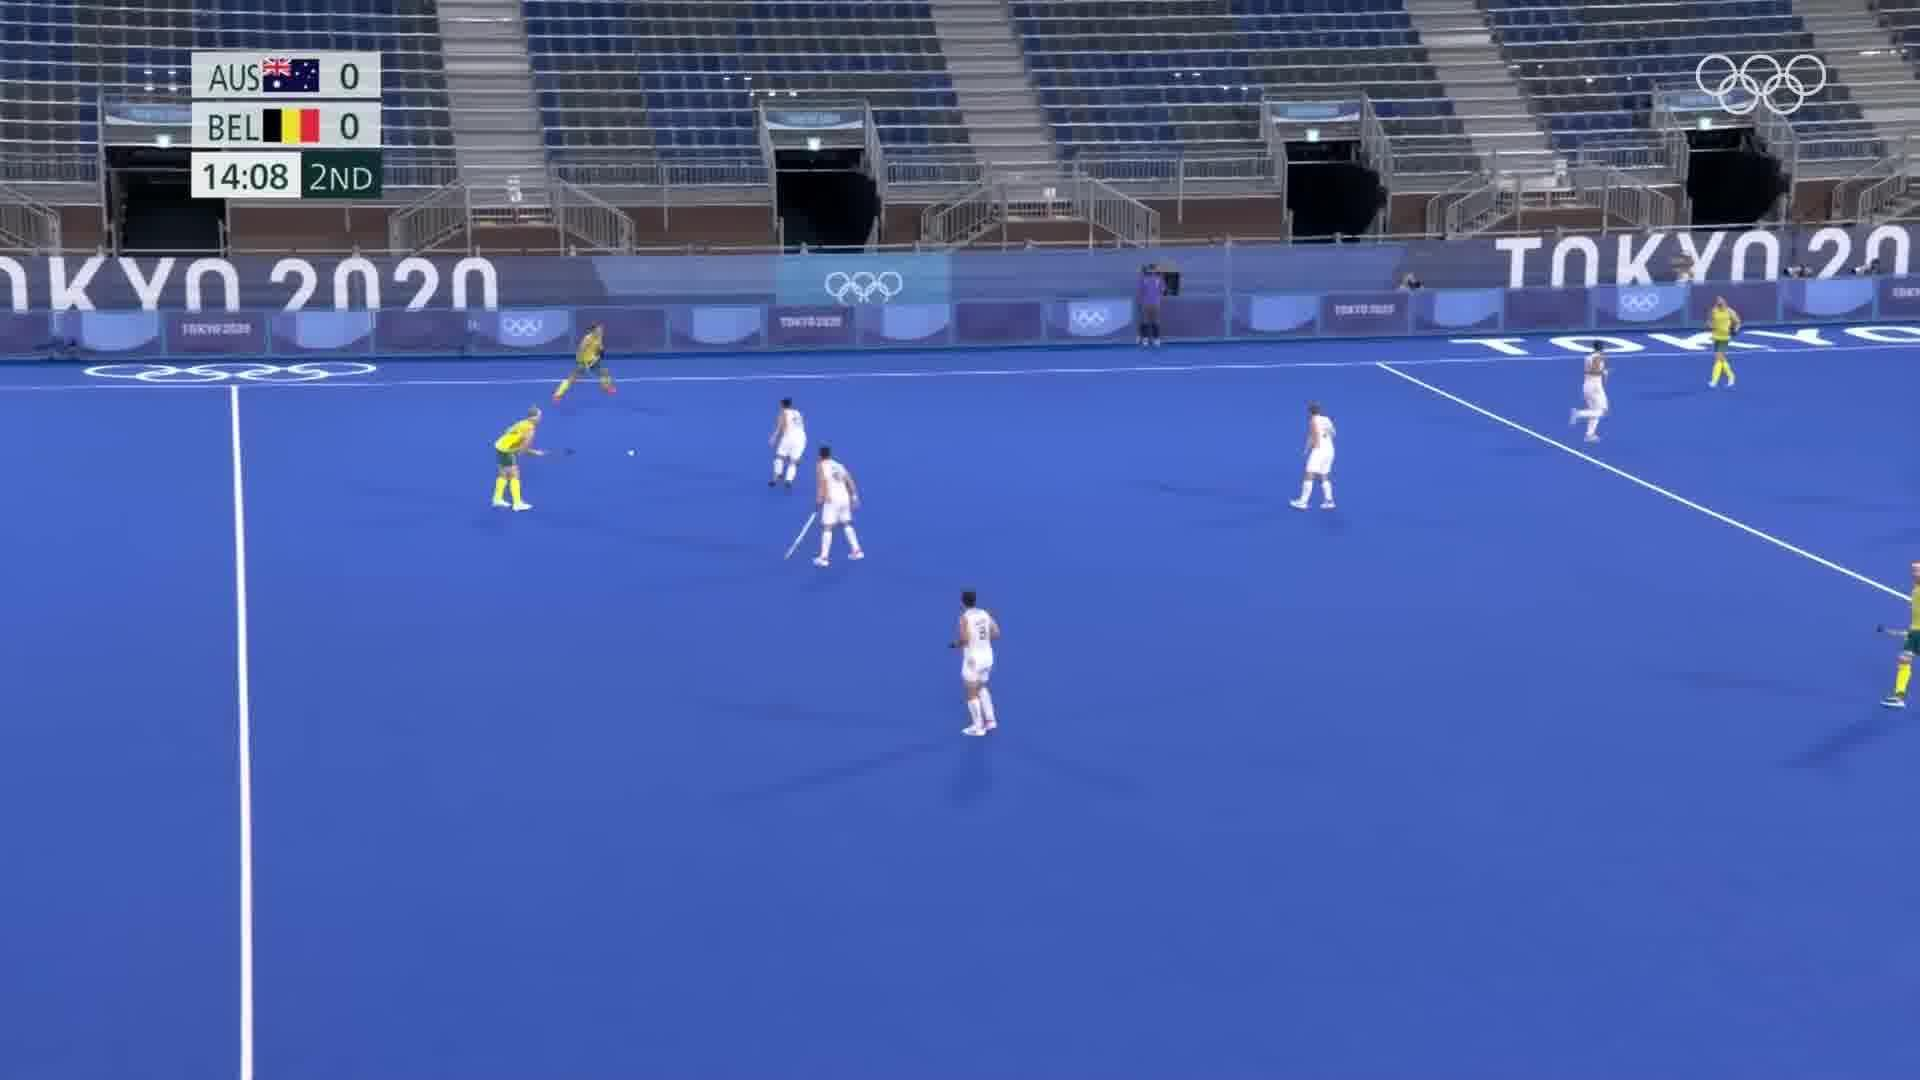ball: (624, 444, 638, 462)
